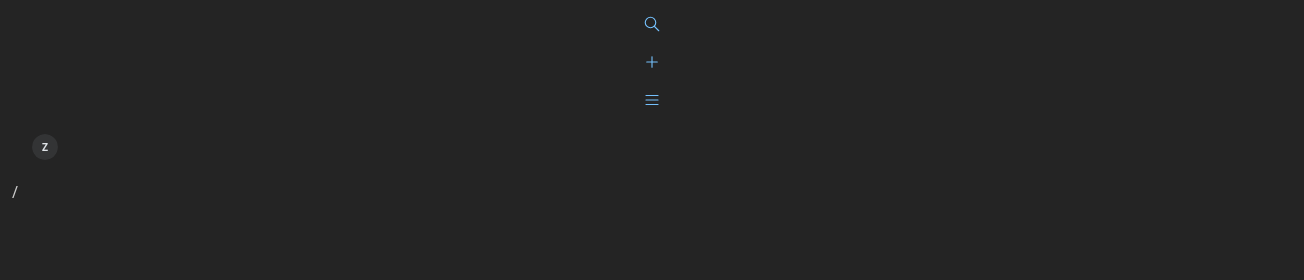
Test: 029 step 005 — the rail's Search trigger reaches the results page (US-118.AC-2, D9) › with the tree collapsed to the rail, the rail's Search button lands on /search with the Search query box focused — DoD-11
The image size is (1304, 280).
Click the button named "search".
click(652, 24)  # box top-left (638, 10), bottom-right (666, 38)
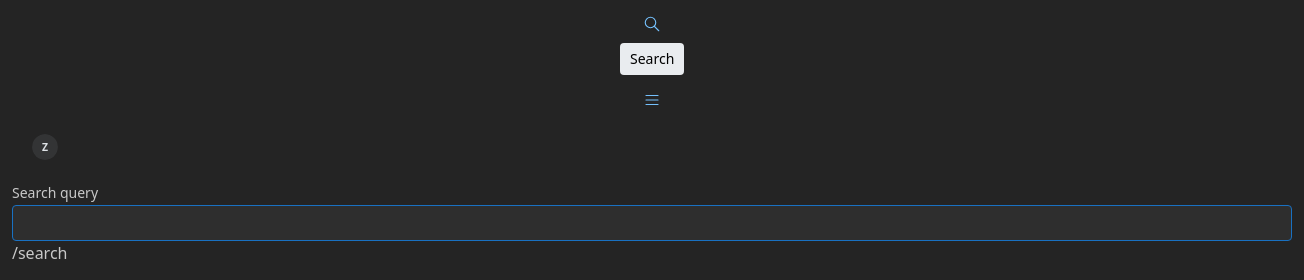
Now the text with test id "probe-location" reads "/search", box top-left (12, 242), bottom-right (68, 264)
Now the field labelled "Search query" is shown, box top-left (12, 205), bottom-right (1292, 241)
